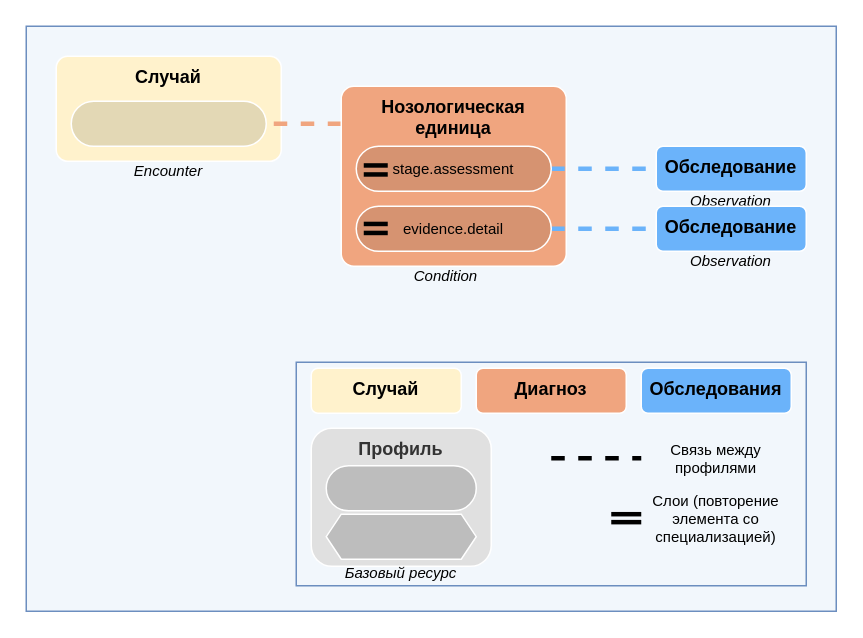
Some shapes in this 863 by 638 pixel diagram are drawn without their labels. Each missing label, with the centre of its shape:
diagnosis[use].condition: [168,123]
Атрибут: [400,487]
Расширение: [400,536]
